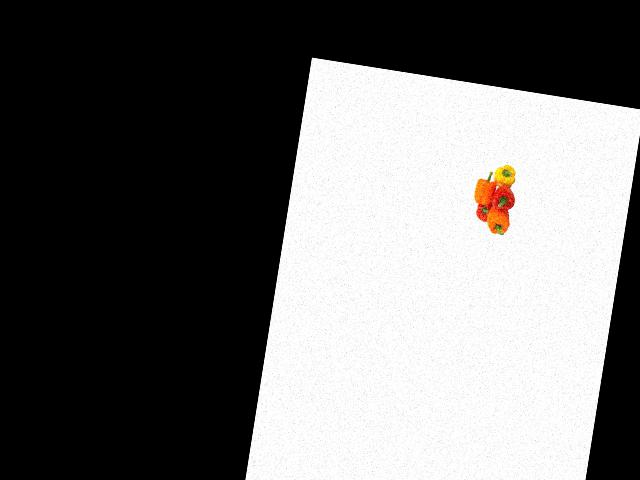bell_pepper: (481, 204, 514, 242)
